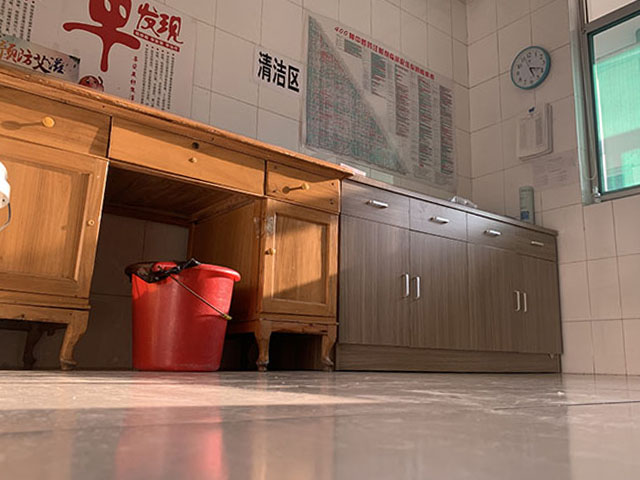cabinet: (1, 66, 337, 374), (338, 172, 559, 376)
trash can: (125, 256, 244, 373)
